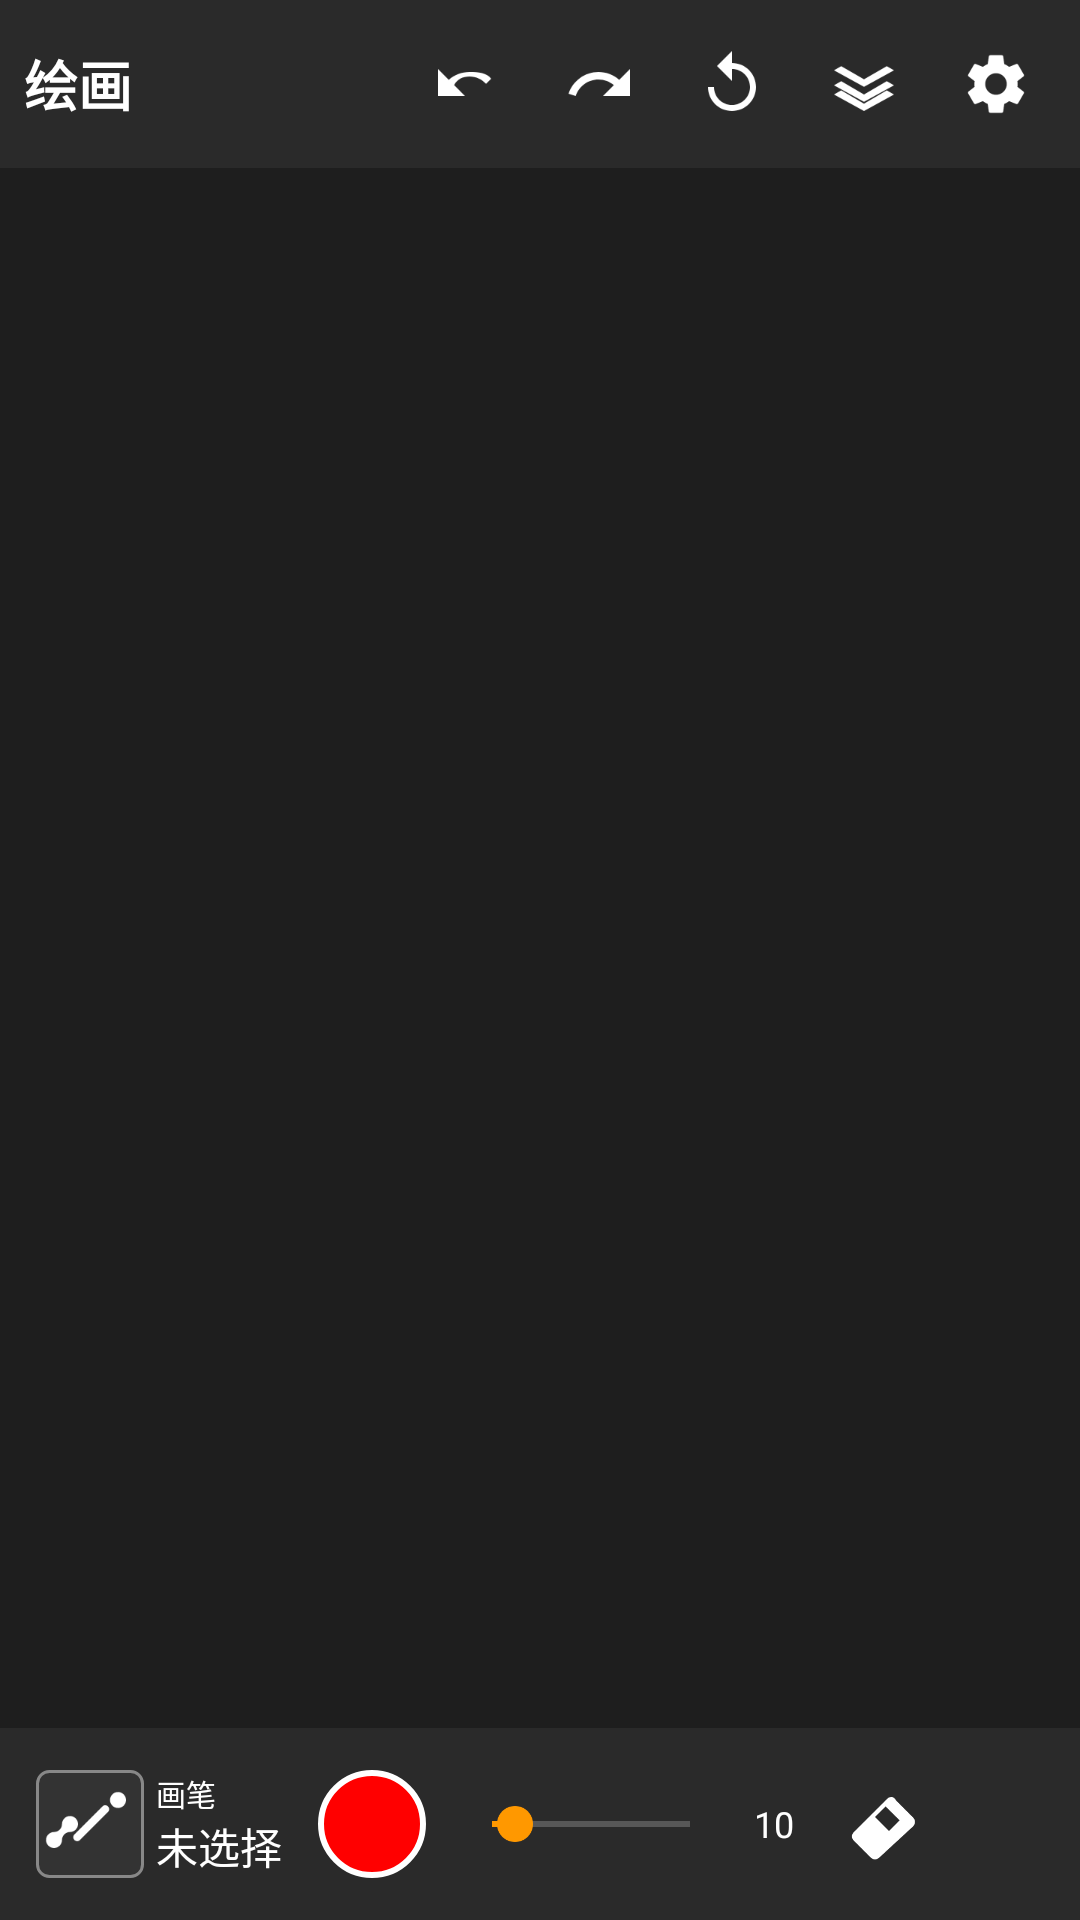

Icon click points for this 1080x1920 phone screenshot, format (x,y):
brush: (86,1820)
图层: (864,88)
撤销: (464,82)
橡皮擦: (883,1828)
设置: (996,84)
重做: (599,82)
重置变换: (732,81)
